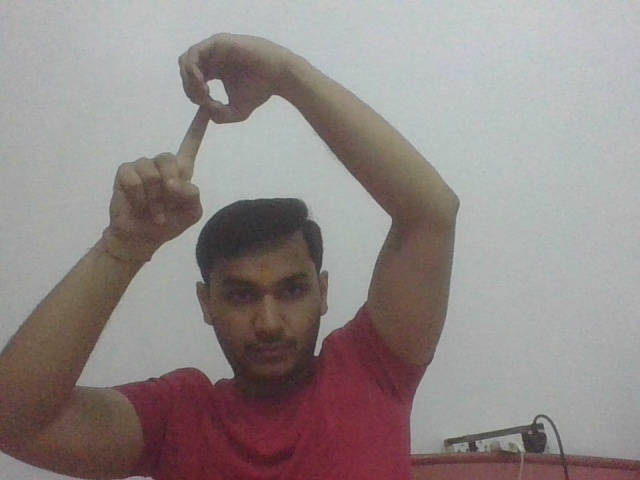Q: (139, 29, 252, 201)
